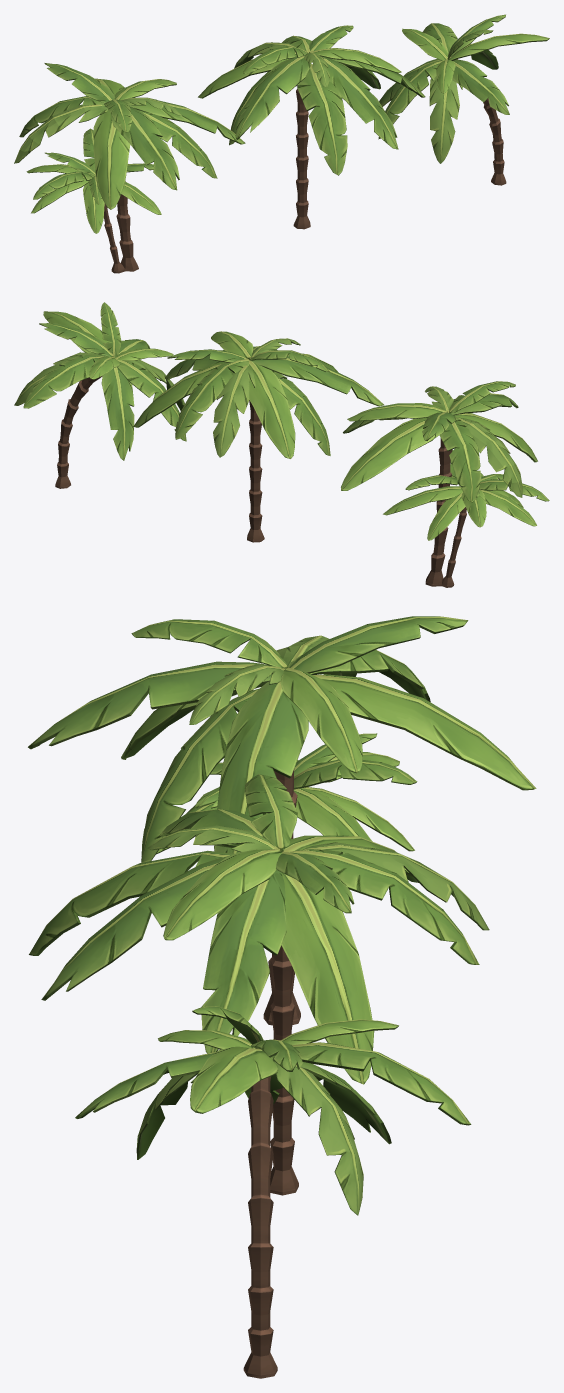
Rendered from yazasu_all.FBX.
3 views of the same model, one above another, from view 1: azimuth 30°, elevation 25°; view 2: azimuth 150°, elevation 25°; view 3: azimuth 270°, elevation 25° (orthographic). The views are drawn at different scales.
Parts seen in each view (by area): view 1: Cylinder005, Plane089, Plane095; view 2: Cylinder005, Plane089, Plane095; view 3: Plane089, Cylinder005, Plane095.
Part boxes in pixels (x1=…): Cylinder005: x1=14, y1=63, x2=245, y2=273; Plane089: x1=198, y1=25, x2=425, y2=229; Plane095: x1=378, y1=14, x2=549, y2=185; Cylinder005: x1=341, y1=381, x2=549, y2=587; Plane089: x1=133, y1=331, x2=384, y2=542; Plane095: x1=14, y1=302, x2=186, y2=488; Plane089: x1=29, y1=774, x2=489, y2=1195; Cylinder005: x1=28, y1=616, x2=536, y2=1025; Plane095: x1=75, y1=1006, x2=471, y2=1378.
Size of the model in its own units: 442 by 156 by 194.
